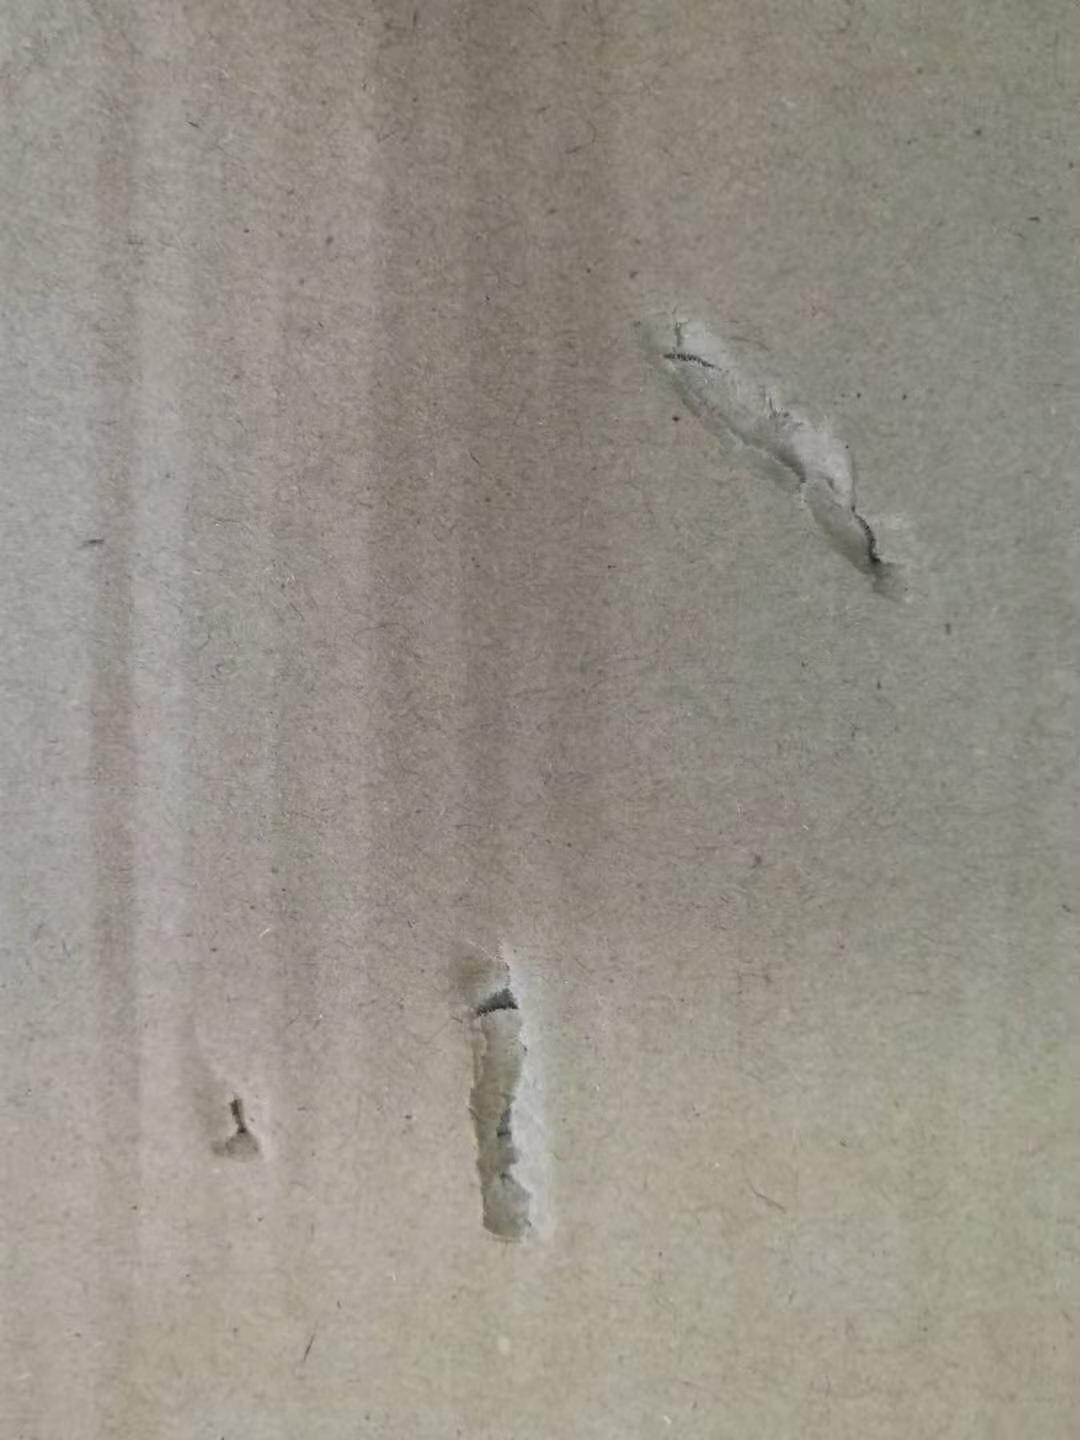defect: (589, 256, 952, 653), (400, 893, 597, 1284), (174, 1036, 299, 1201)
